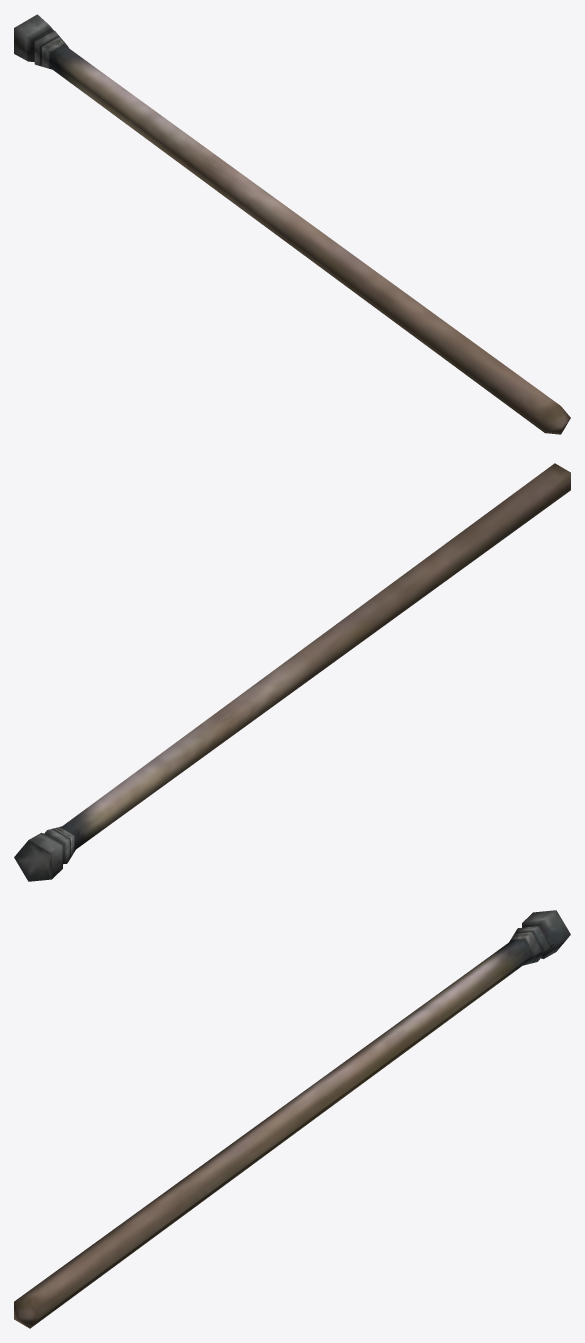
File: pir_m_hnd_gun_ramrod.fbx
The picture shows the model from 3 angles, top to bottom: view 1: azimuth 30°, elevation 25°; view 2: azimuth 150°, elevation 25°; view 3: azimuth 330°, elevation 25°; orthographic projection.
Parts seen in each view (by area): view 1: ram_b_root; view 2: ram_b_root; view 3: ram_b_root.
Part boxes in pixels (x1,y1,x2,y2): ram_b_root: (14,14,570,434); ram_b_root: (14,463,570,881); ram_b_root: (14,910,570,1328).
Bounding box in the file's own units: 6.67 × 7.01 × 161.
1 material, 1 textured.
